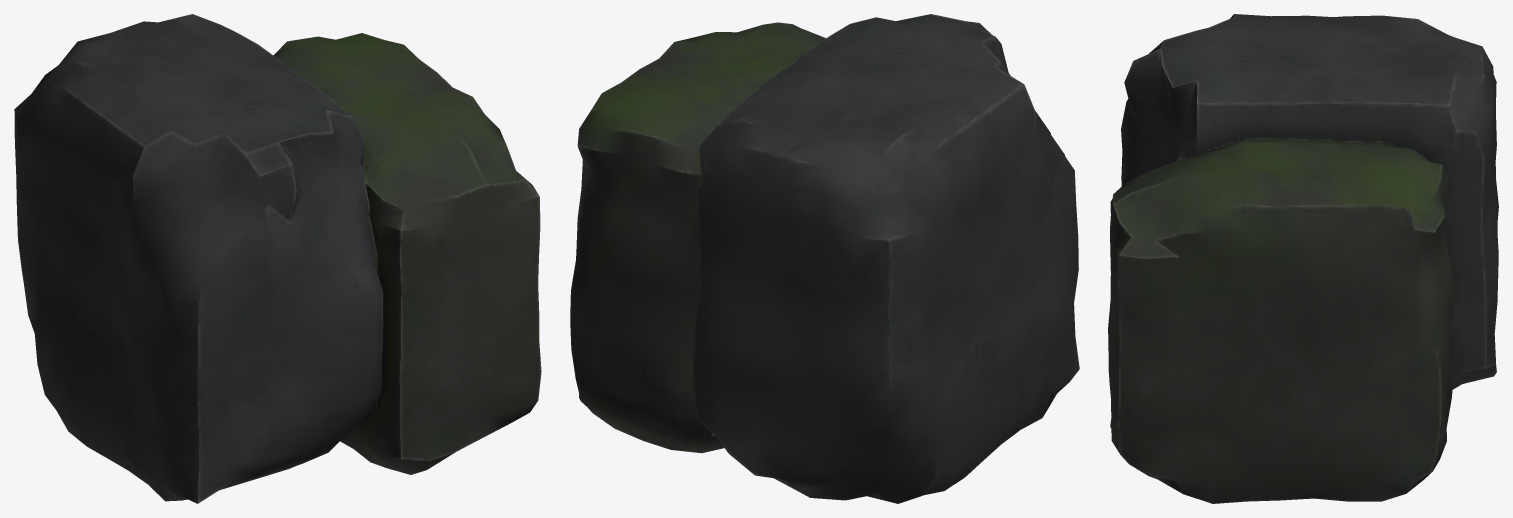
File: boulder.glb
3 renders of one model, left to right at view 1: azimuth 30°, elevation 25°; view 2: azimuth 150°, elevation 25°; view 3: azimuth 270°, elevation 25°, orthographic. The views are drawn at different scales.
Visible parts, largest first — view 1: boulder; view 2: boulder; view 3: boulder.
Part boxes in pixels (x1,y1,x2,y2): boulder: (14, 14, 541, 503); boulder: (570, 14, 1079, 503); boulder: (1108, 14, 1498, 503).
Bounding box in the file's own units: 0.9288 × 0.893 × 0.9057.
1 material, 1 textured.
